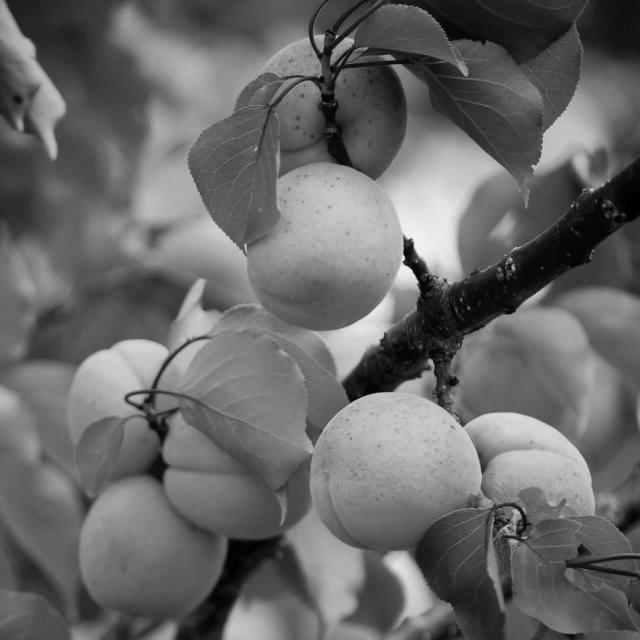Kayisi: (318, 396, 485, 544), (248, 165, 396, 330), (83, 479, 228, 616)
Kayisi Yapragi: (178, 331, 308, 487), (406, 45, 542, 193), (190, 110, 280, 248), (415, 513, 501, 640), (352, 2, 466, 73)
